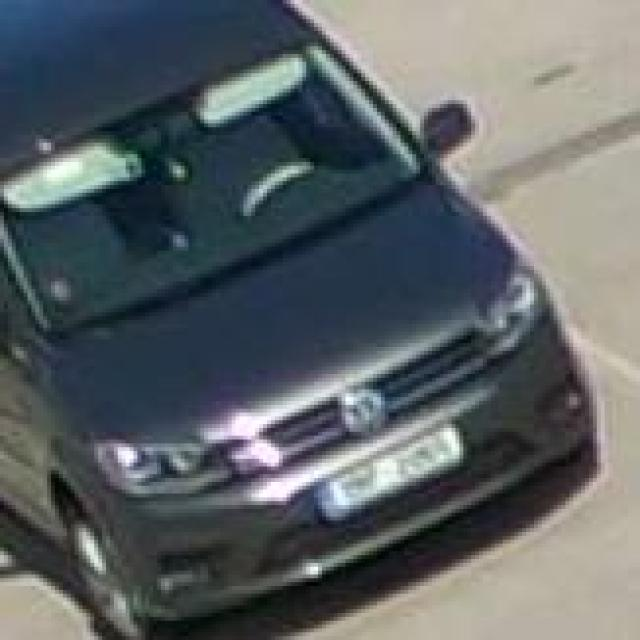Car: (0, 68, 588, 588)
